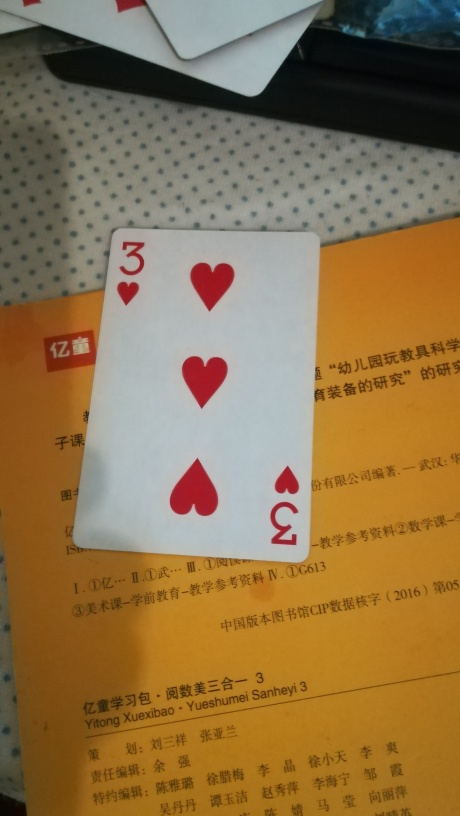hx 3: (70, 223, 319, 564)
